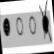correct: (2, 16, 11, 42)
not correct: (38, 0, 51, 44)
